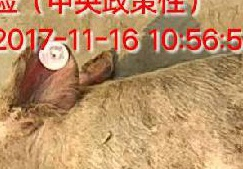text: (25, 36, 78, 73)
